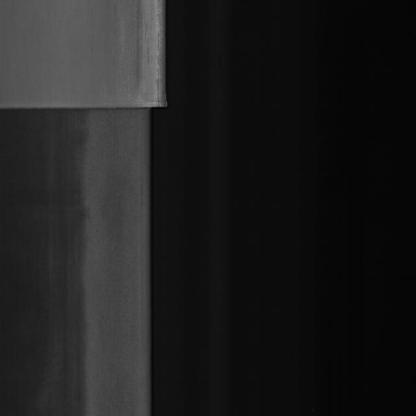welding_line: (0, 93, 183, 135)
